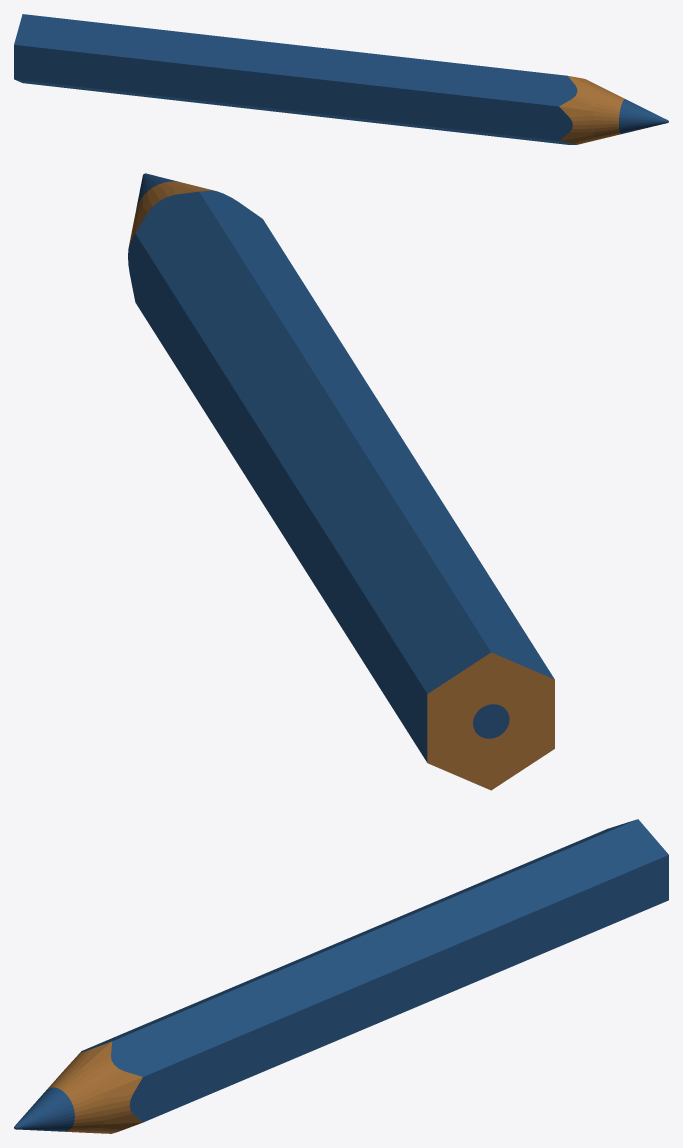
File: stift.fbx
3 views of the same model, one above another, from view 1: azimuth 30°, elevation 25°; view 2: azimuth 150°, elevation 25°; view 3: azimuth 270°, elevation 25° (orthographic). The views are drawn at different scales.
Visible parts, largest first — view 1: Circle; view 2: Circle; view 3: Circle.
Boxes of the visible parts, x1=… form: Circle: x1=14, y1=14, x2=668, y2=144; Circle: x1=128, y1=173, x2=554, y2=790; Circle: x1=14, y1=819, x2=668, y2=1133.
Bounding box in the file's own units: 26.89 × 4.13 × 26.89.
